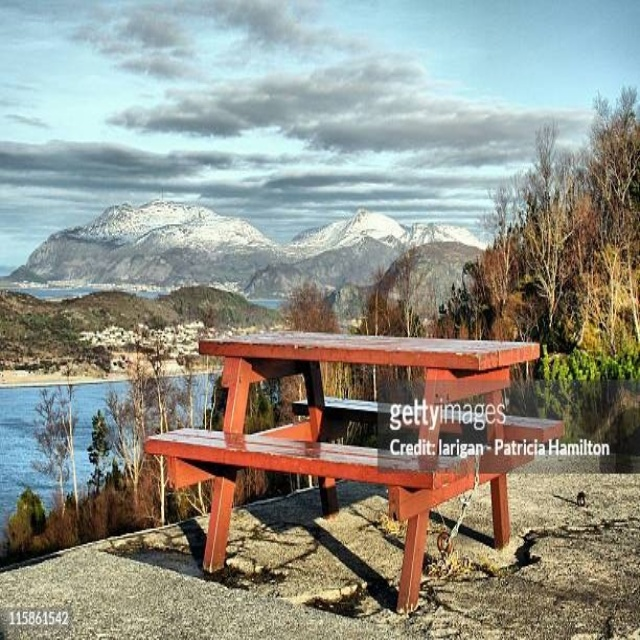obstacle: (146, 333, 563, 612)
